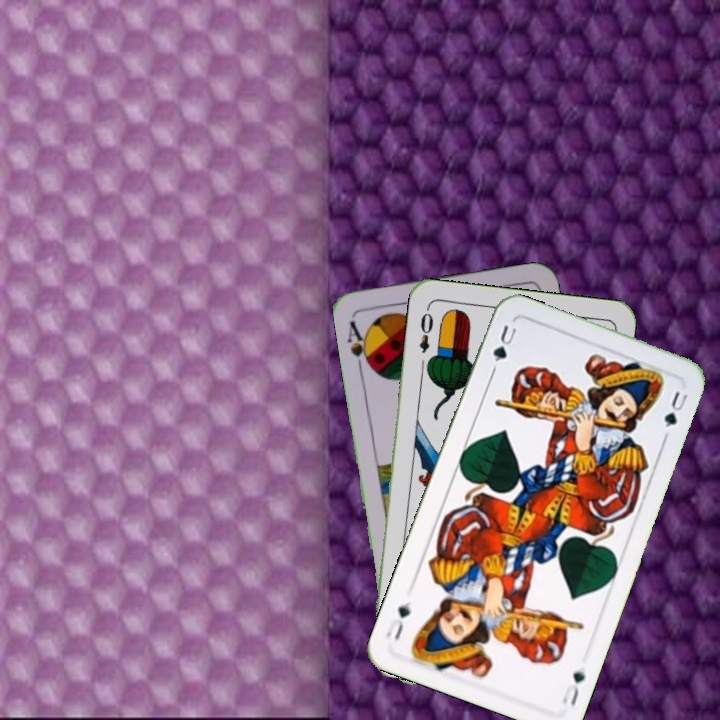EO: (415, 308, 436, 356)
GU: (488, 321, 520, 374), (558, 666, 588, 709)
SA: (343, 317, 375, 373)
